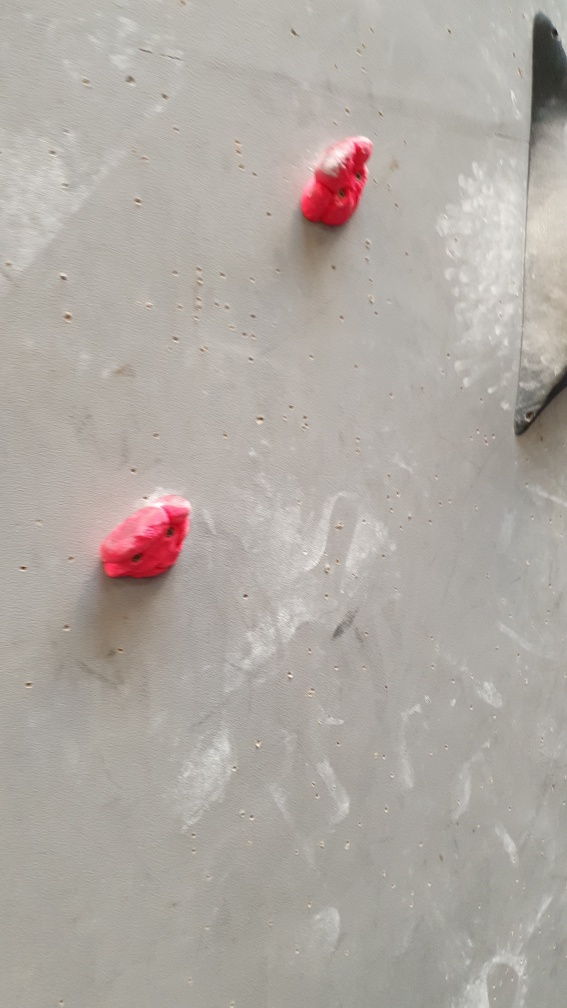Jug: (95, 491, 192, 585), (297, 129, 375, 231)
